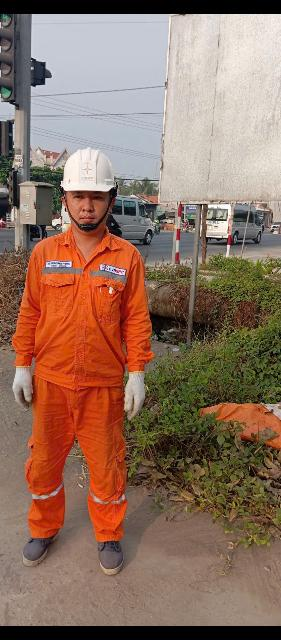gloves: (116, 367, 160, 422), (6, 364, 48, 421)
helmet: (49, 140, 126, 200)
shoes: (9, 515, 75, 574), (87, 526, 138, 587)
